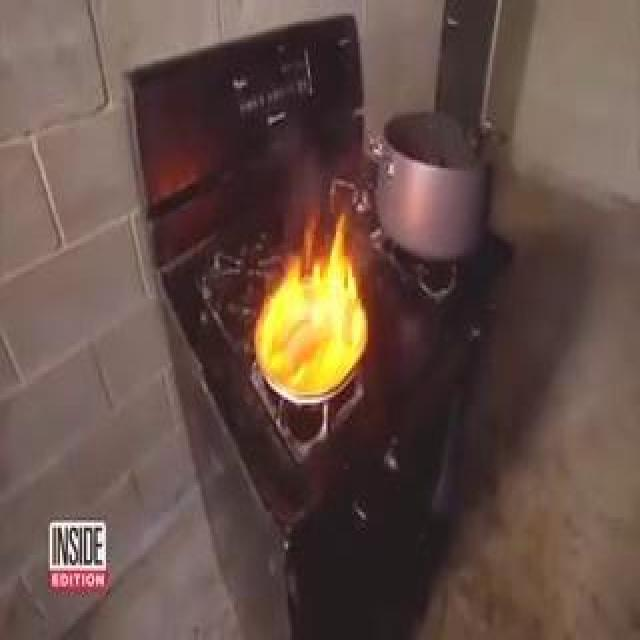Fire: (250, 178, 388, 410)
